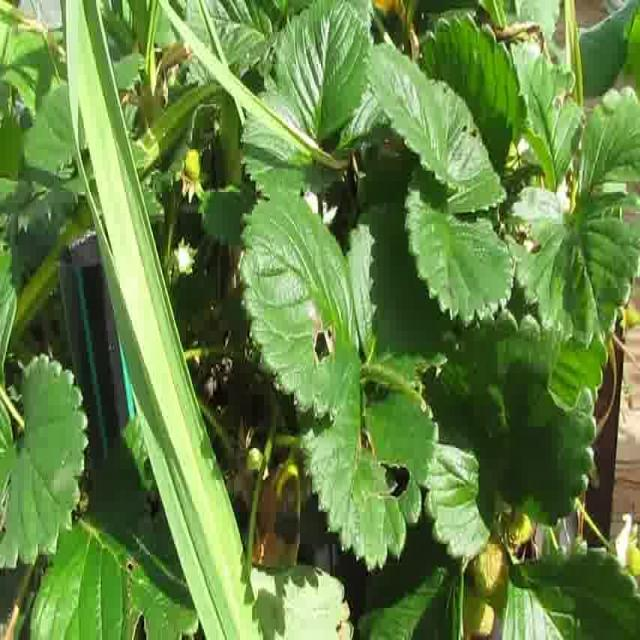Fruta sana: (472, 538, 509, 610), (459, 582, 497, 640), (498, 498, 542, 545)
